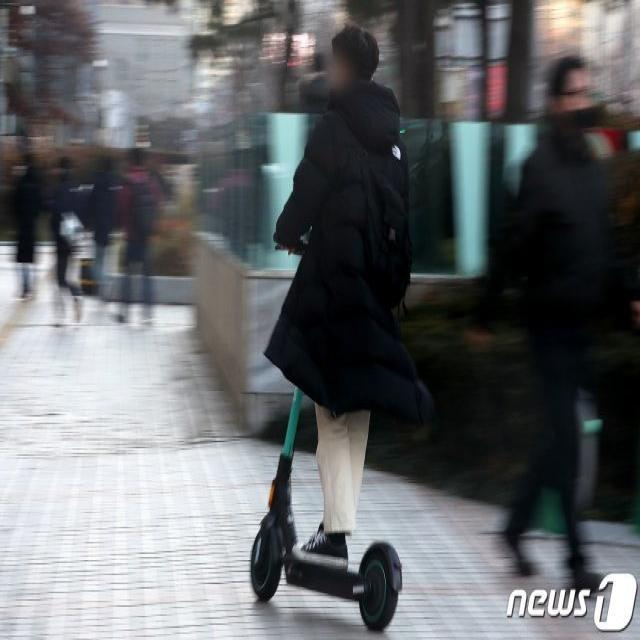non-helmet: (244, 22, 416, 638)
